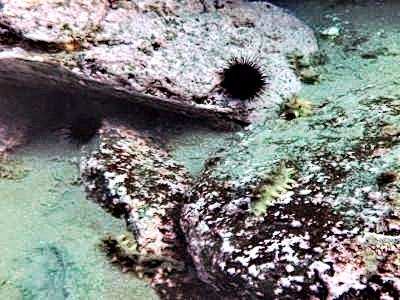urchin: (212, 53, 269, 99), (56, 105, 101, 145)
